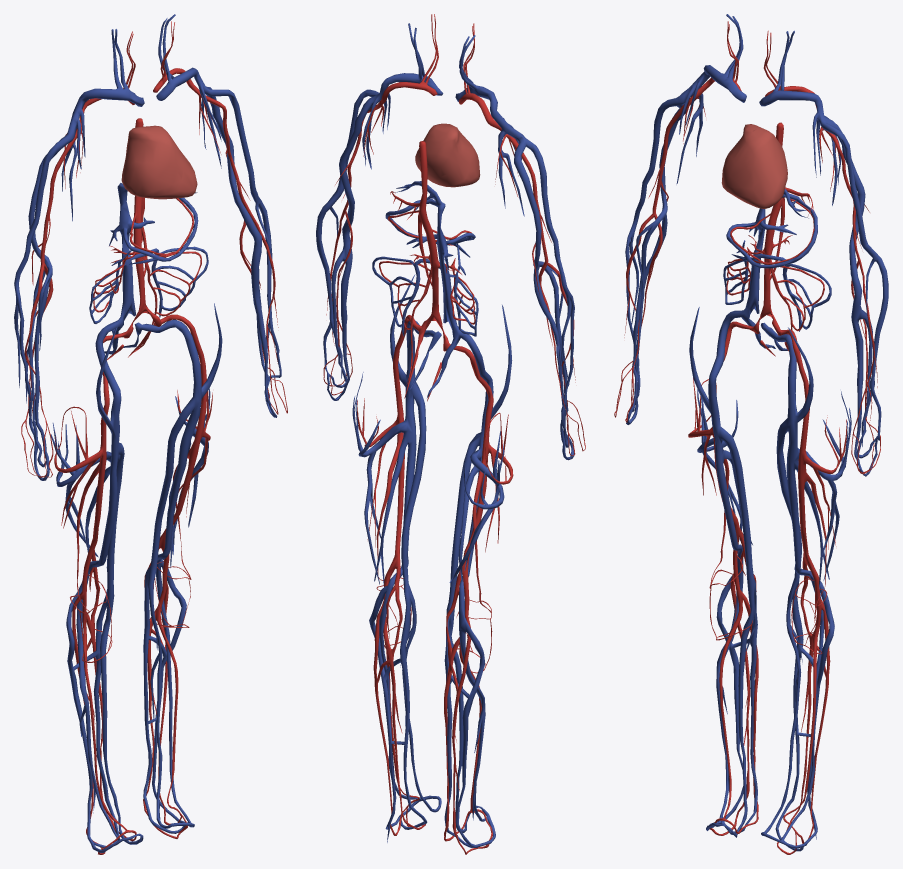
File: pediatric_child_10y_male.cardiovascular.LOD2.glb
3 renders of one model, left to right at view 1: azimuth 30°, elevation 25°; view 2: azimuth 150°, elevation 25°; view 3: azimuth 330°, elevation 25°, orthographic.
Visible parts, largest first — view 1: PEDIATRIC.CHILD_10Y.MALE.CARDIOVASCULAR.BLOOD_IN_LARGE_VEINS, PEDIATRIC.CHILD_10Y.MALE.CARDIOVASCULAR.BLOOD_IN_LARGE_ARTER, PEDIATRIC.CHILD_10Y.MALE.CARDIOVASCULAR.HEART_WALL; view 2: PEDIATRIC.CHILD_10Y.MALE.CARDIOVASCULAR.BLOOD_IN_LARGE_VEINS, PEDIATRIC.CHILD_10Y.MALE.CARDIOVASCULAR.BLOOD_IN_LARGE_ARTER, PEDIATRIC.CHILD_10Y.MALE.CARDIOVASCULAR.HEART_WALL; view 3: PEDIATRIC.CHILD_10Y.MALE.CARDIOVASCULAR.BLOOD_IN_LARGE_VEINS, PEDIATRIC.CHILD_10Y.MALE.CARDIOVASCULAR.BLOOD_IN_LARGE_ARTER, PEDIATRIC.CHILD_10Y.MALE.CARDIOVASCULAR.HEART_WALL.
Part boxes in pixels (box(x1,y1,x2,y2)): PEDIATRIC.CHILD_10Y.MALE.CARDIOVASCULAR.BLOOD_IN_LARGE_VEINS: box(14, 14, 281, 852); PEDIATRIC.CHILD_10Y.MALE.CARDIOVASCULAR.BLOOD_IN_LARGE_ARTER: box(21, 21, 287, 854); PEDIATRIC.CHILD_10Y.MALE.CARDIOVASCULAR.HEART_WALL: box(121, 125, 197, 199); PEDIATRIC.CHILD_10Y.MALE.CARDIOVASCULAR.BLOOD_IN_LARGE_VEINS: box(316, 23, 574, 847); PEDIATRIC.CHILD_10Y.MALE.CARDIOVASCULAR.BLOOD_IN_LARGE_ARTER: box(323, 14, 585, 854); PEDIATRIC.CHILD_10Y.MALE.CARDIOVASCULAR.HEART_WALL: box(415, 123, 480, 187); PEDIATRIC.CHILD_10Y.MALE.CARDIOVASCULAR.BLOOD_IN_LARGE_VEINS: box(625, 14, 888, 851); PEDIATRIC.CHILD_10Y.MALE.CARDIOVASCULAR.BLOOD_IN_LARGE_ARTER: box(614, 21, 880, 854); PEDIATRIC.CHILD_10Y.MALE.CARDIOVASCULAR.HEART_WALL: box(721, 124, 787, 208).
Bounding box in the file's own units: 0.4062 × 1.24 × 0.1455.
